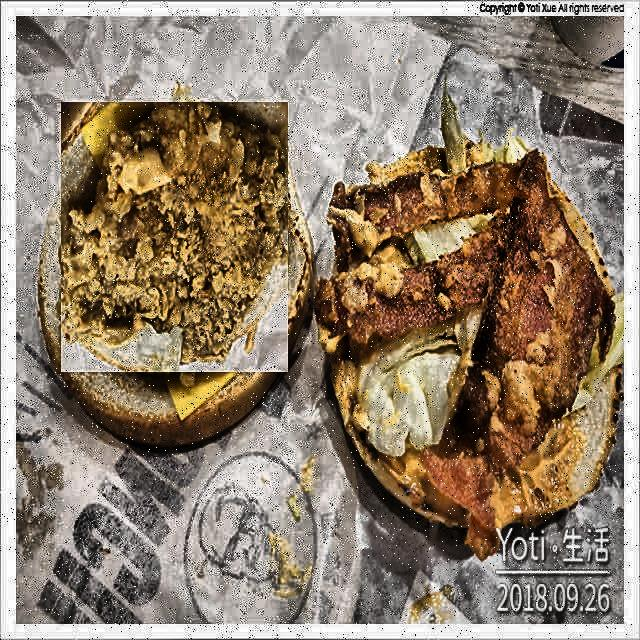Food: (60, 101, 288, 372)
